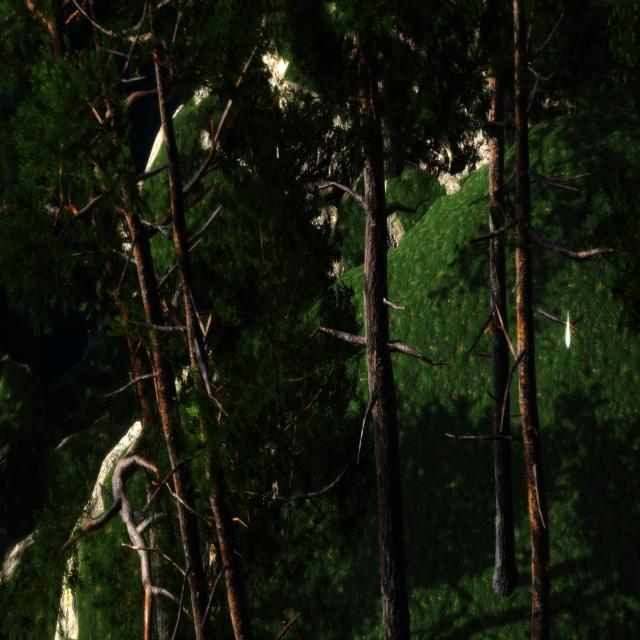Human: (160, 271, 180, 320)
